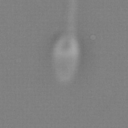normal: (52, 1, 92, 32)
